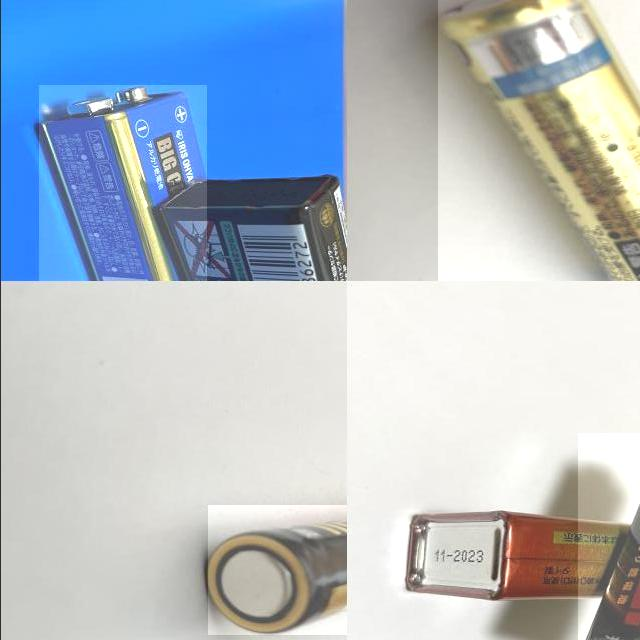9V: (38, 85, 206, 281), (405, 511, 635, 601), (157, 176, 346, 281)
